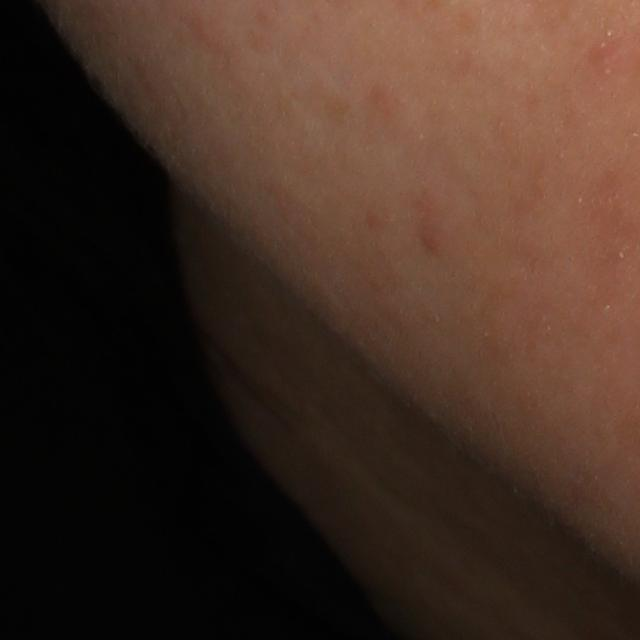papule: (418, 224, 447, 257)
